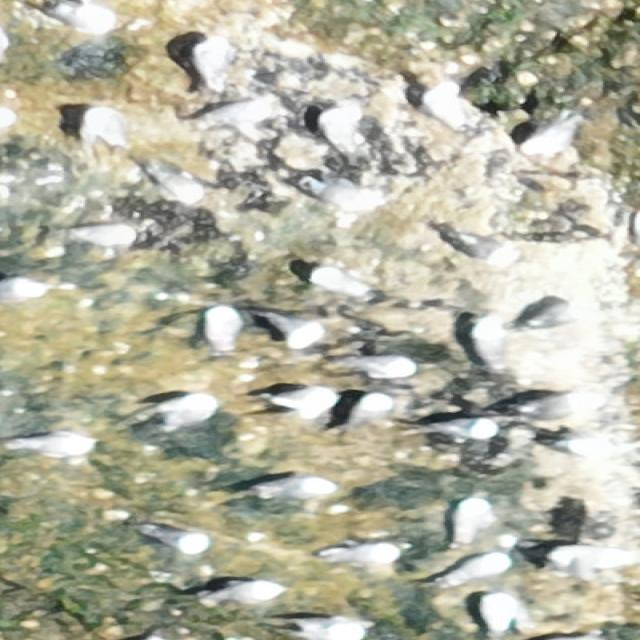umineko: (133, 394, 220, 433), (445, 224, 520, 267), (74, 106, 139, 153), (297, 175, 375, 213), (246, 472, 338, 504), (418, 77, 469, 134), (7, 428, 98, 459), (543, 544, 634, 574), (186, 100, 271, 132), (142, 162, 205, 204), (429, 552, 511, 584), (513, 299, 590, 333), (339, 391, 394, 436), (520, 385, 601, 415), (322, 101, 363, 160), (198, 578, 284, 606), (268, 311, 332, 348), (191, 33, 231, 92), (140, 519, 207, 554), (46, 1, 119, 33), (330, 353, 420, 378), (519, 118, 581, 154), (304, 266, 369, 300), (453, 496, 491, 548), (204, 304, 243, 354), (328, 542, 405, 567), (472, 316, 504, 375), (60, 224, 144, 246), (541, 432, 608, 459), (477, 592, 515, 638), (281, 616, 364, 637), (269, 387, 336, 412), (423, 418, 496, 438), (4, 276, 52, 305)
